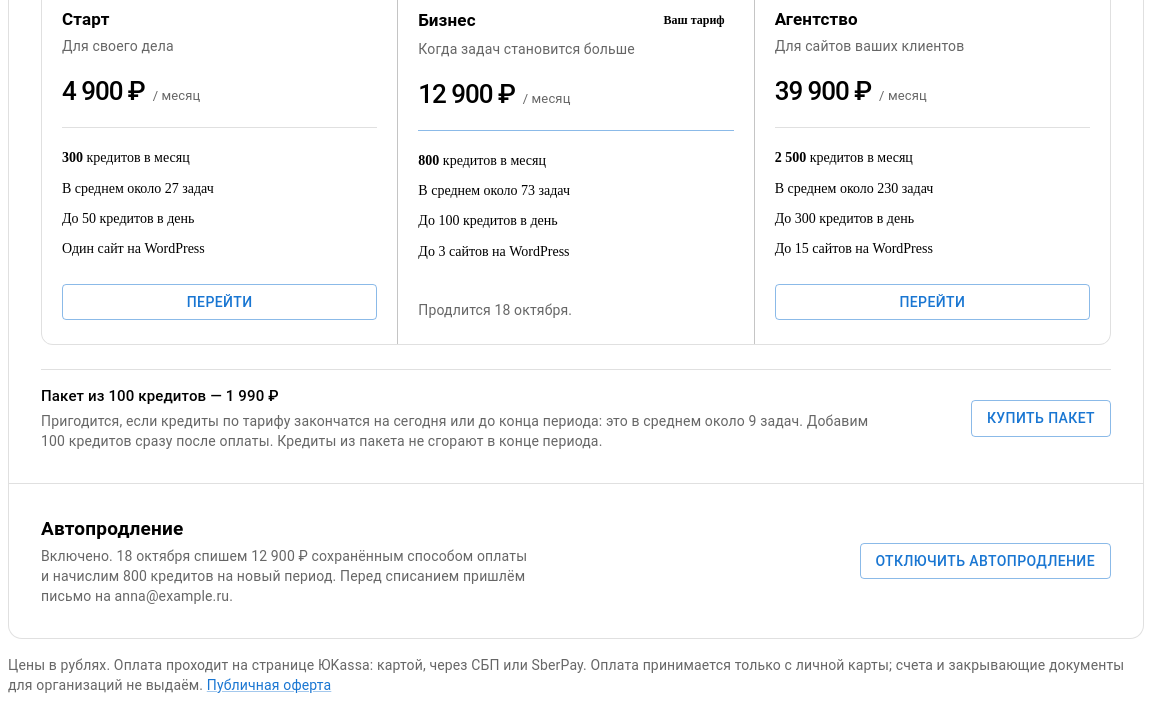
Scenario: buying a pack of credits › keeps the refusal on the screen when the tariff ended meanwhile and the row is gone
(page scrolled)
Click the button "Купить пакет": (1041, 419) [971,400,1111,437]
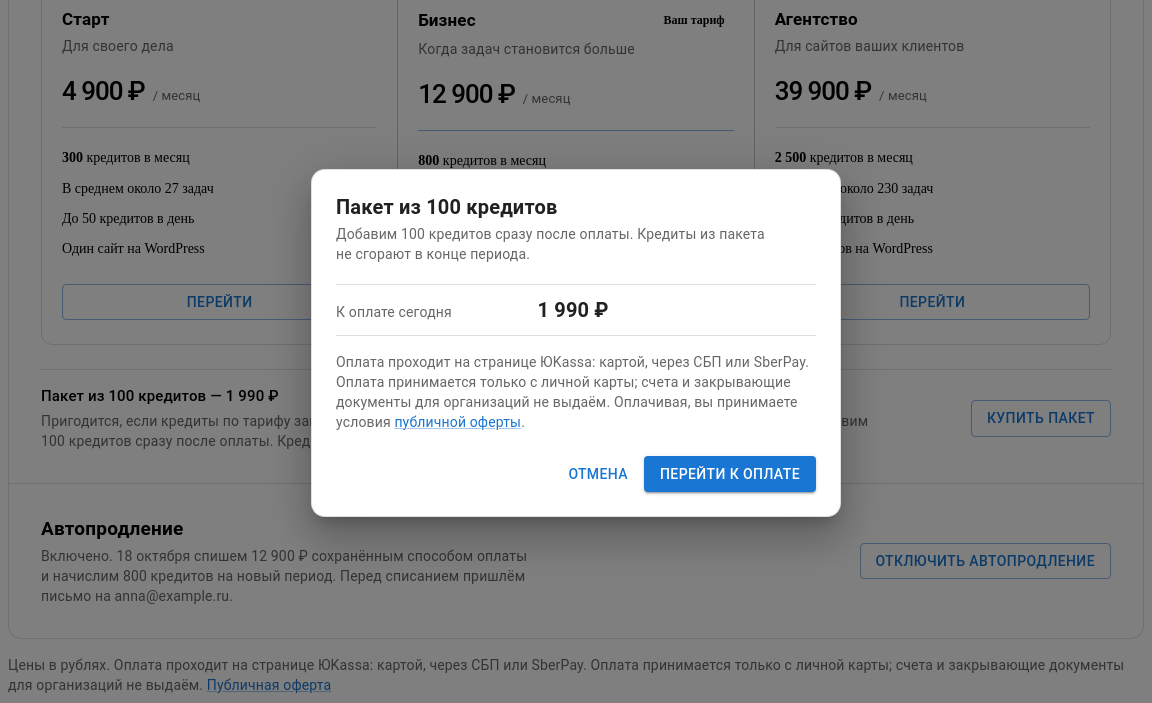
Click the button "Перейти к оплате": (730, 474) [644,456,816,492]
(page scrolled)
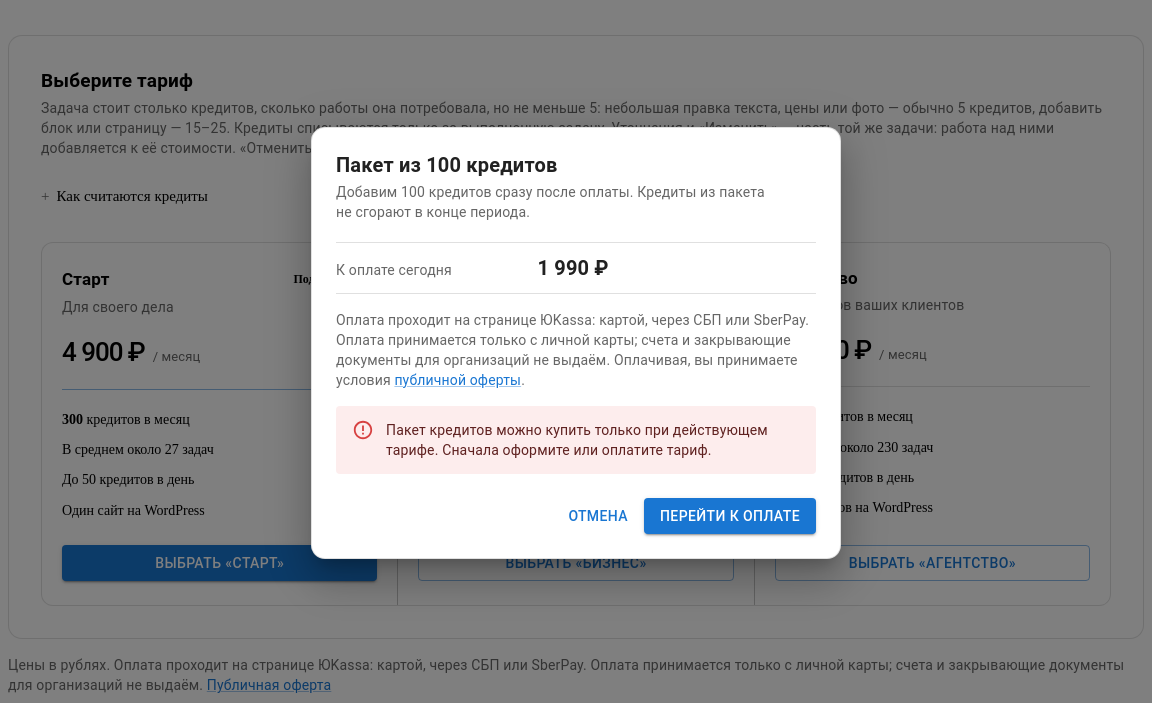
Expected: the message shows "Пакет кредитов можно купить только при действующем тарифе. Сначала оформите или оплатите тариф.", [386,422,768,458]
Expected: the heading "Выберите тариф" is shown, [41,69,193,92]
Expected: the button "Купить пакет" is gone
Click the button "Отмена": (598, 516) [560,498,636,534]
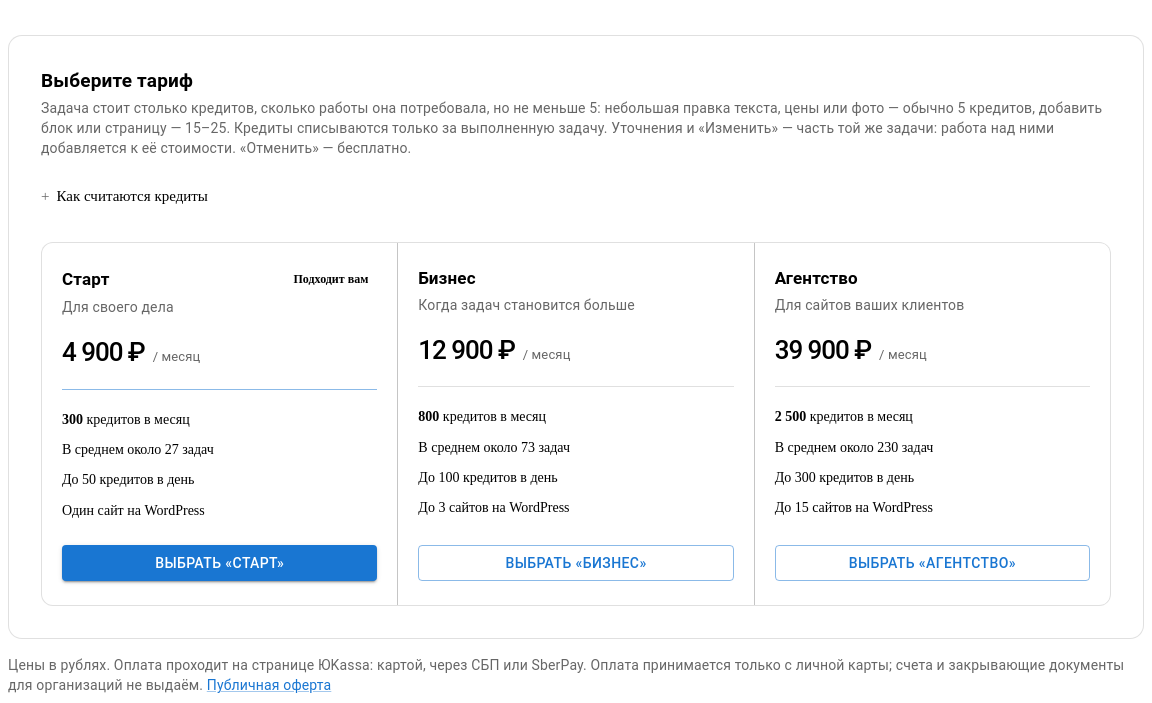
Expected: the dialog is gone
